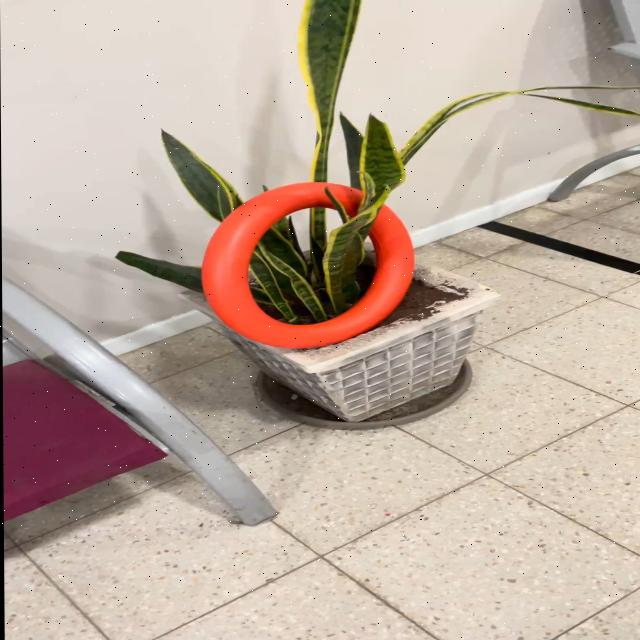note: (198, 180, 418, 350)
